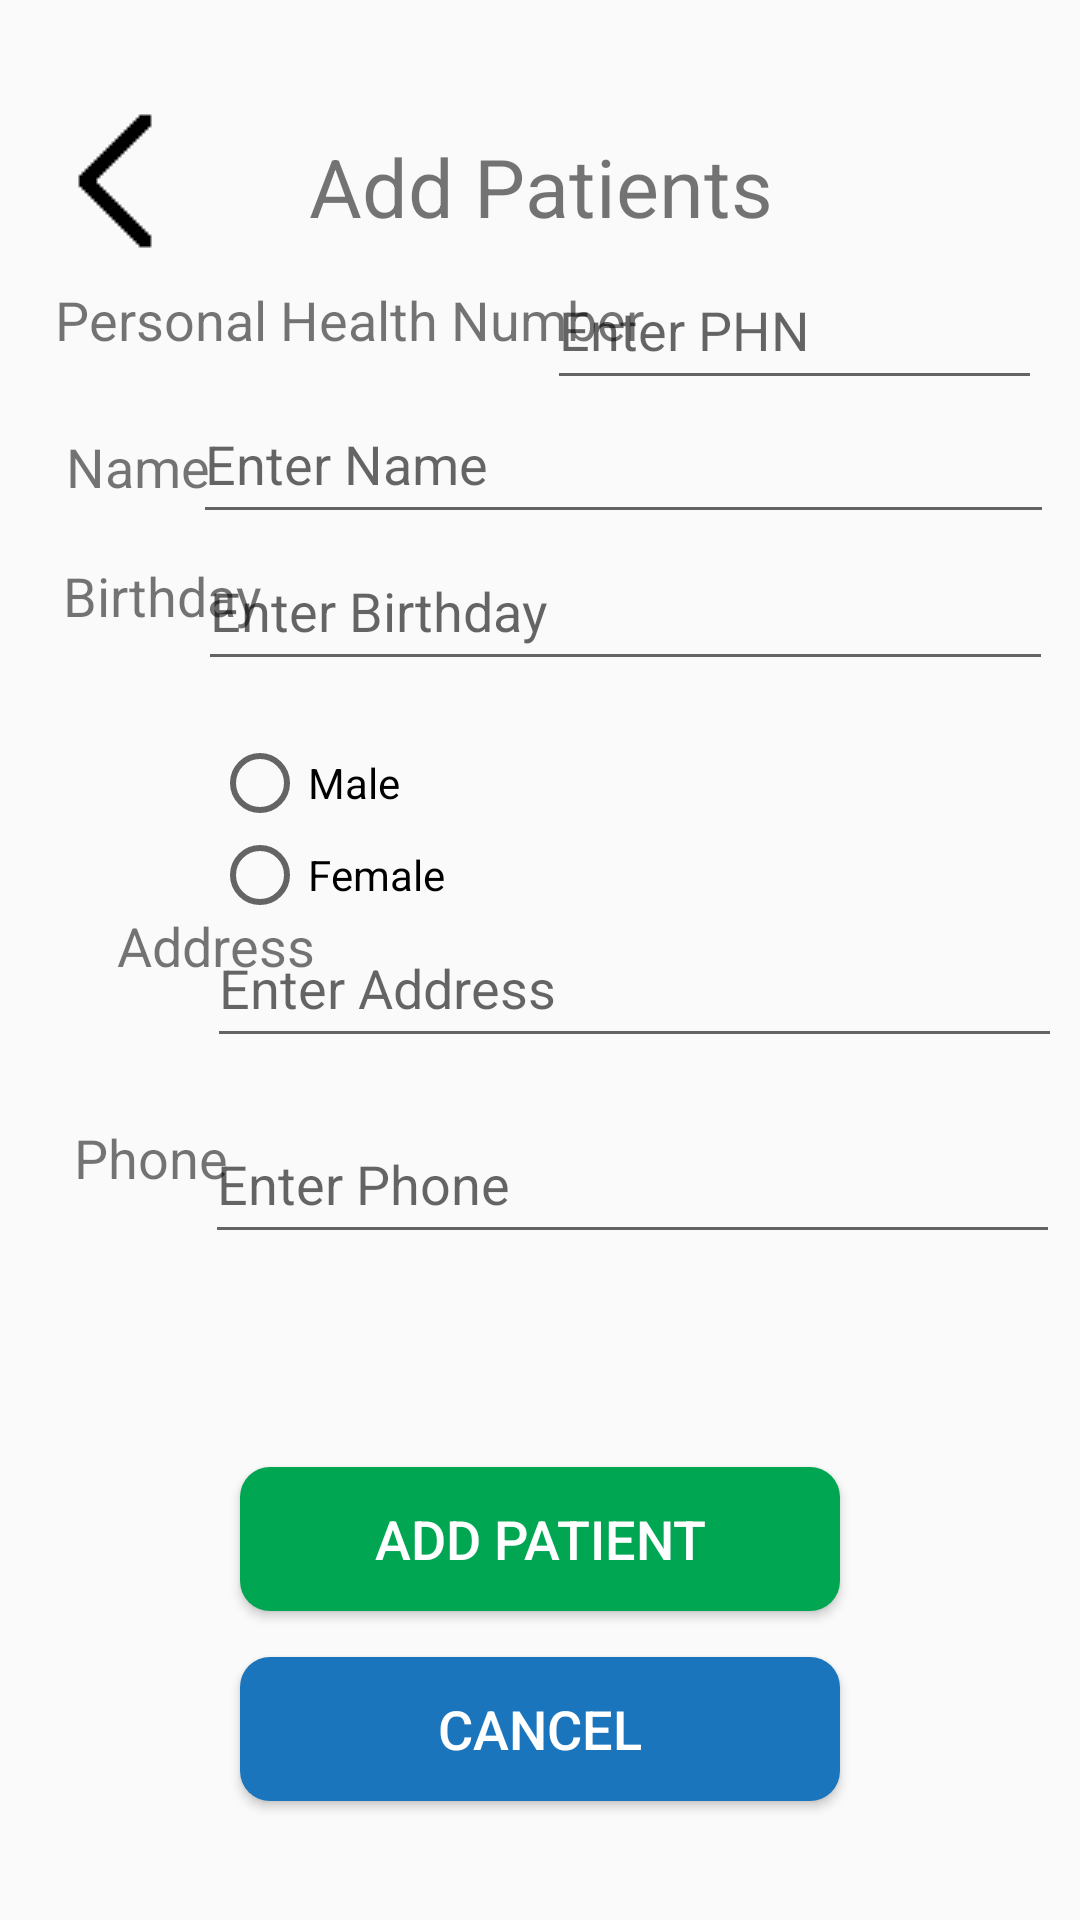

Screen size 1080*1920. Icon name, then its center in pixels as point (x, y):
Back: point (115, 181)
